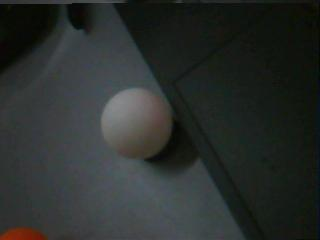oball: (1, 228, 50, 240)
